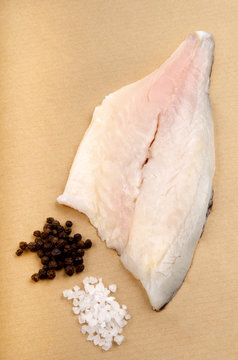bream-fish: (56, 30, 216, 313)
